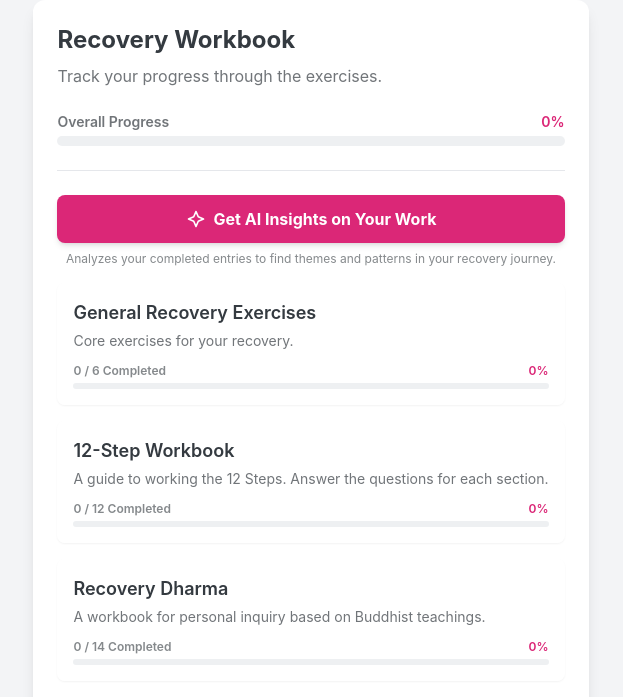
Test: RecoveryWorkbook Component › should navigate to a category view when a category is clicked
The width and height of the screenshot is (623, 697).
Click the heading "12-Step Workbook": coordinates (154, 450) [74,440,234,461]
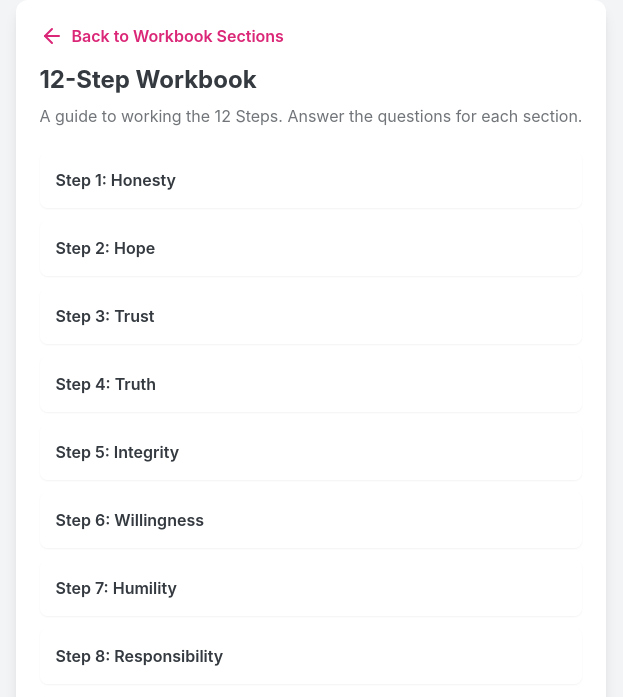
Check: the heading "Step 1: Honesty" is shown, box [56,168,176,192]
